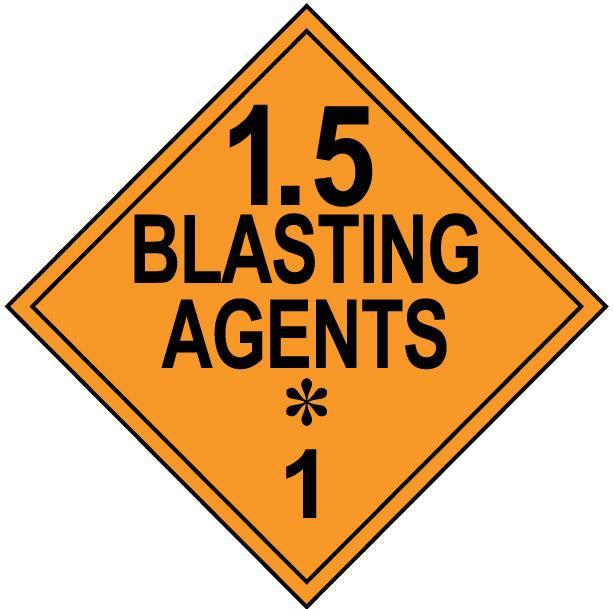explosive: (1, 1, 614, 609)
